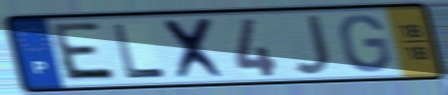4: (232, 15, 281, 79)
E: (50, 20, 121, 84)
G: (338, 13, 394, 75)
J: (291, 13, 334, 77)
L: (110, 23, 169, 81)
X: (159, 15, 232, 82)
